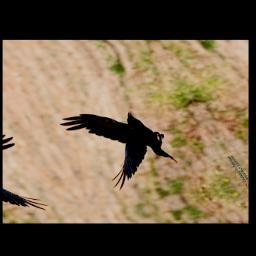Crow: (55, 96, 190, 195)
